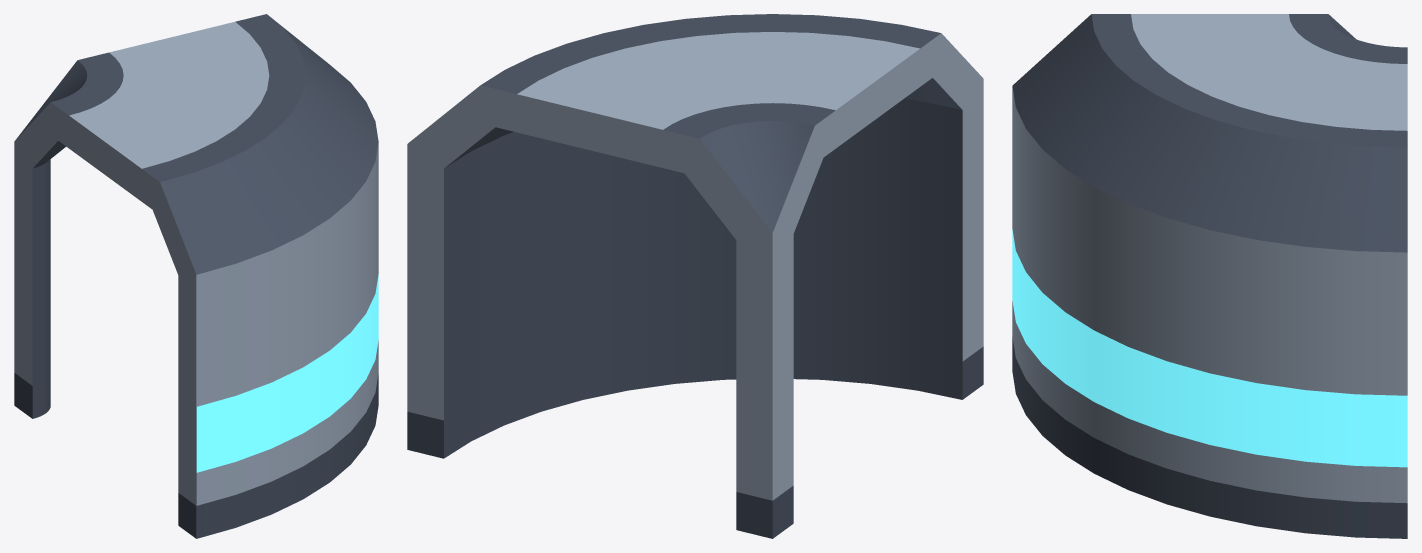
The model's file is corridor_cornerRound.glb.
The picture shows the model from 3 angles, left to right: view 1: azimuth 30°, elevation 25°; view 2: azimuth 150°, elevation 25°; view 3: azimuth 270°, elevation 25°; orthographic projection. The views are drawn at different scales.
Parts seen in each view (by area): view 1: corridor_cornerRound; view 2: corridor_cornerRound; view 3: corridor_cornerRound.
Part boxes in pixels (left/top/right/bottom): corridor_cornerRound: left=14, top=14, right=378, bottom=538; corridor_cornerRound: left=407, top=14, right=983, bottom=538; corridor_cornerRound: left=1012, top=14, right=1407, bottom=538.
Size of the model in its own units: 1 by 1 by 1.
